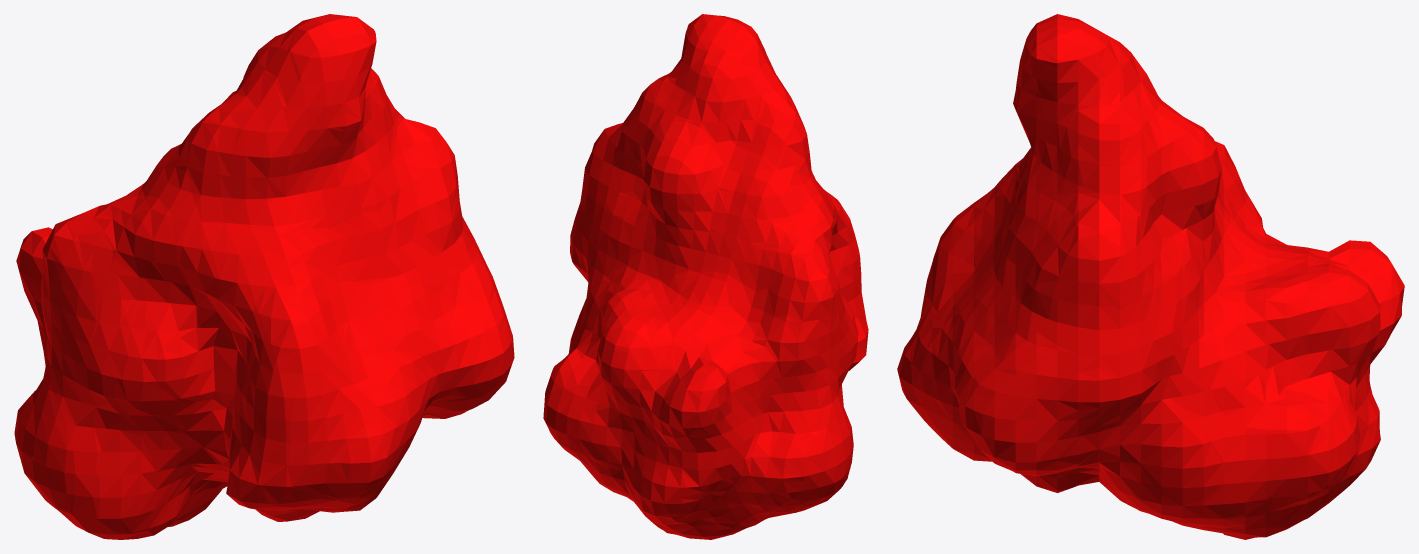
The model's file is ydgJ_coarse.dae.
3 renders of one model, left to right at view 1: azimuth 30°, elevation 25°; view 2: azimuth 150°, elevation 25°; view 3: azimuth 270°, elevation 25°, orthographic. The views are drawn at different scales.
Visible parts, largest first — view 1: ydgJ; view 2: ydgJ; view 3: ydgJ.
Part boxes in pixels (x1,y1,x2,y2): ydgJ: (14, 14, 514, 539); ydgJ: (543, 14, 868, 539); ydgJ: (897, 14, 1404, 539).
Bounding box in the file's own units: 52.84 × 72.11 × 60.65.
